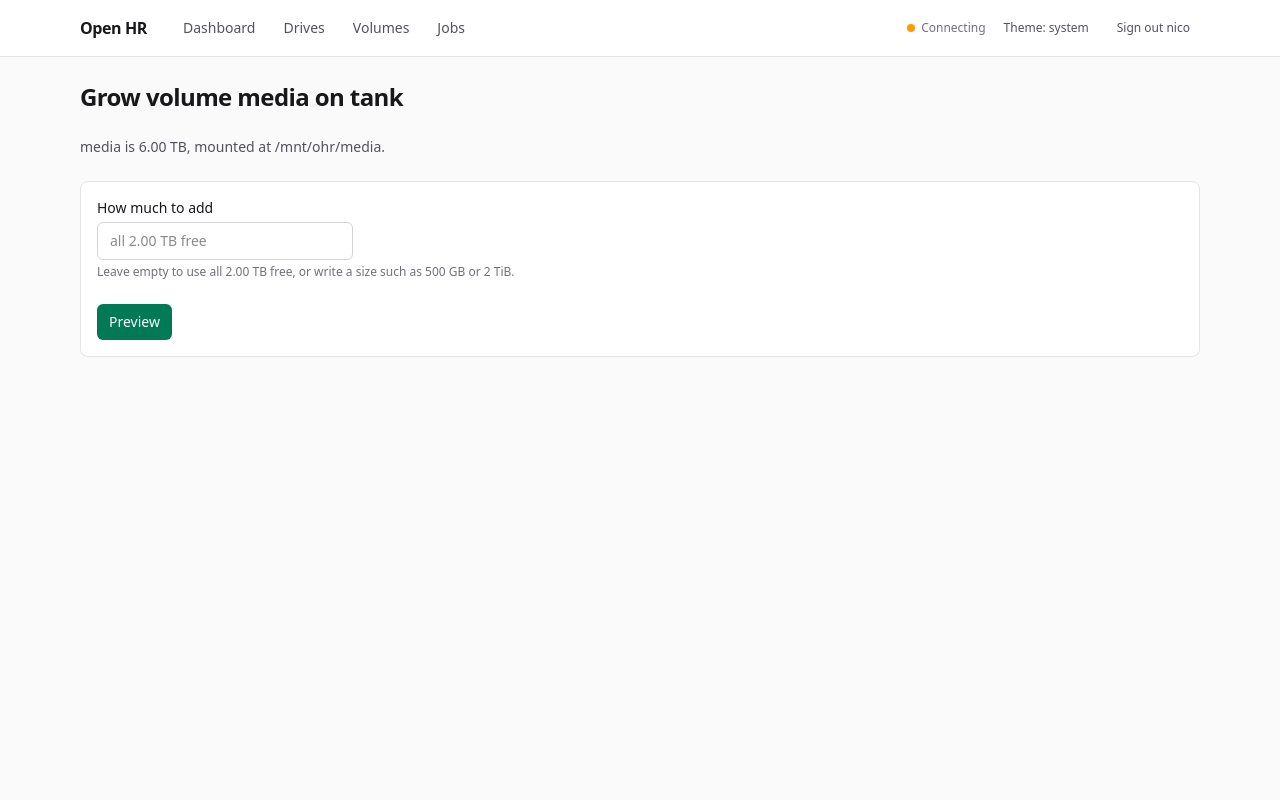
Test: grow volume › previews the new size, then grows the volume once its name is typed
The image size is (1280, 800).
Click the button "Preview".
click(134, 322)  # box [97,304,172,340]
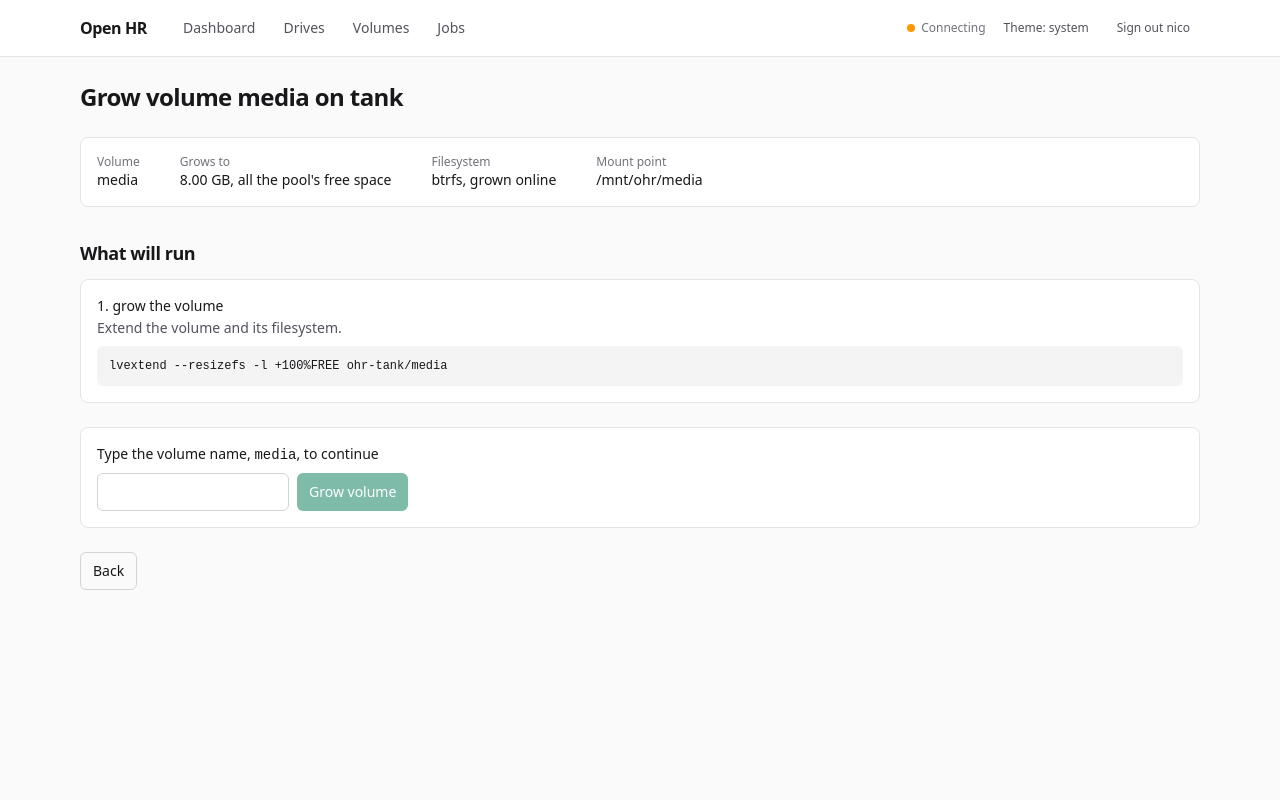
Expected: the text "8.00 GB, all the pool's free space" is shown, [180,170,391,190]
Expected: the text "lvextend --resizefs -l +100%FREE ohr-tank/media" is shown, [97,346,1183,386]
Type "media" into the field labelled "Type the volume name, media, to continue".
click(193, 492); type("media")  # box [97,473,289,511]
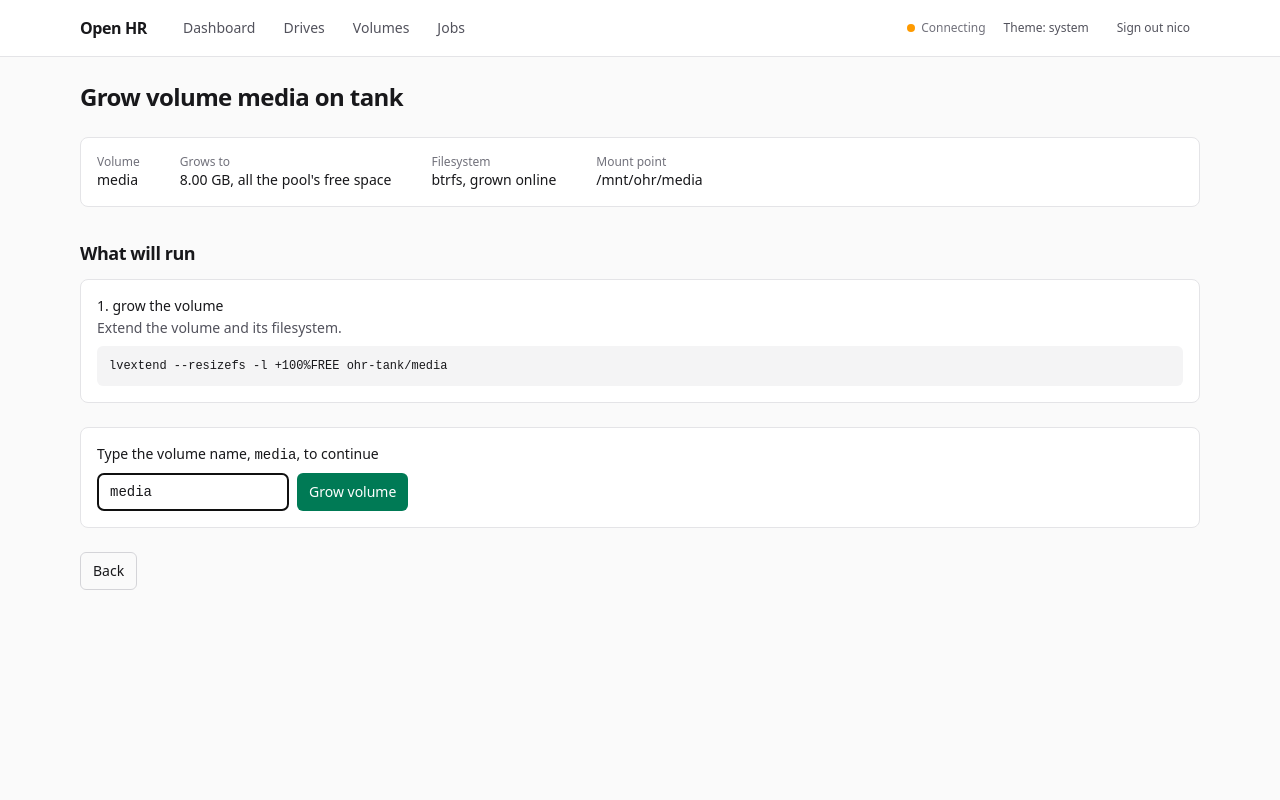
Click the button "Grow volume".
click(353, 492)  # box [297,473,408,511]
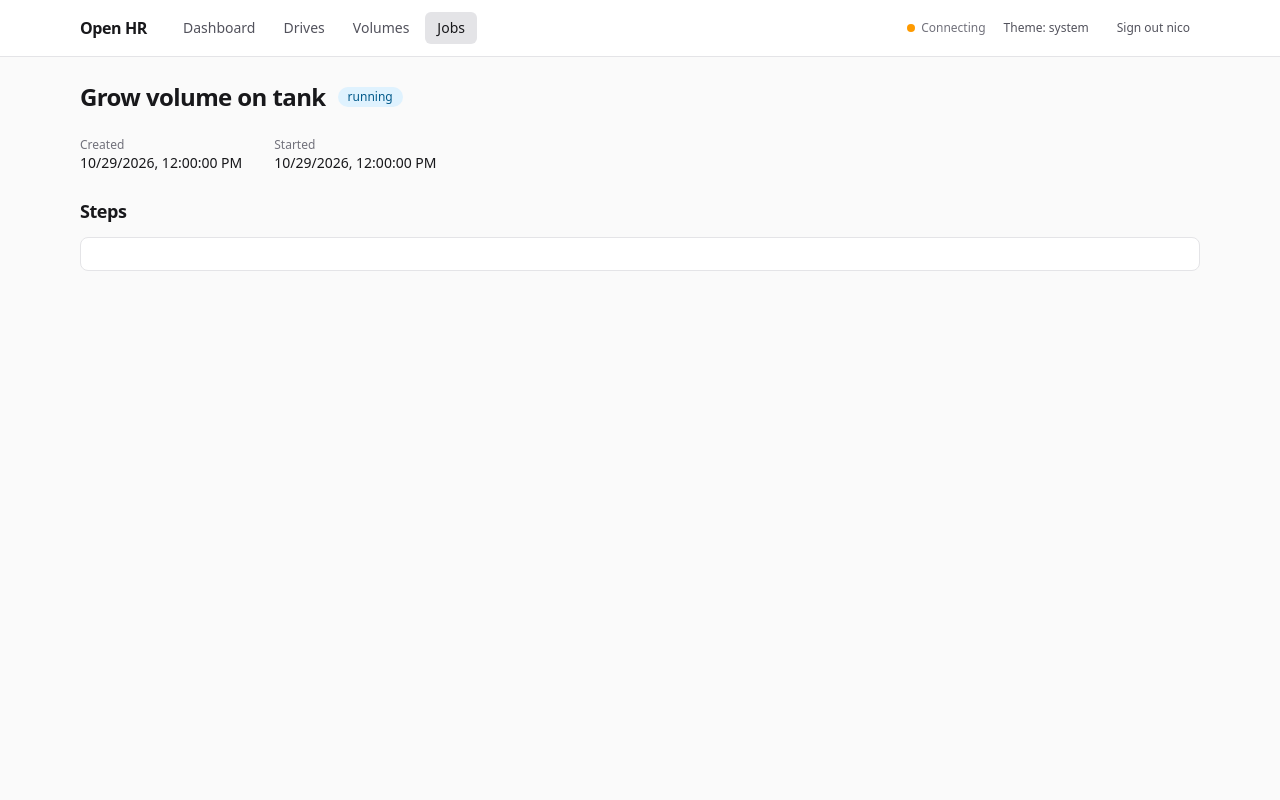
Expected: the heading "Grow volume on tank" is shown, [80,81,326,113]
